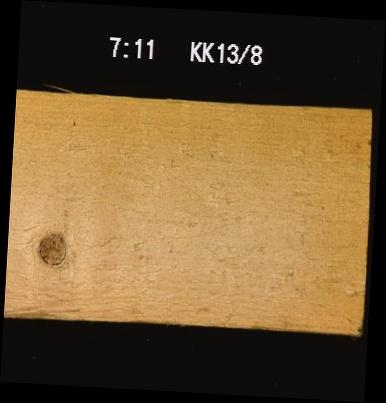dry_knot: (35, 228, 68, 266)
